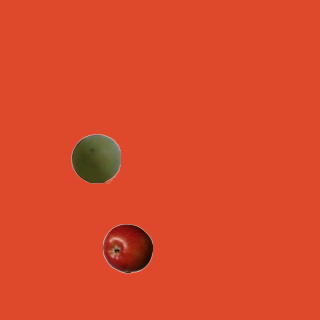Apple Braeburn: (102, 223, 152, 273)
Grape White 4: (70, 133, 120, 183)
